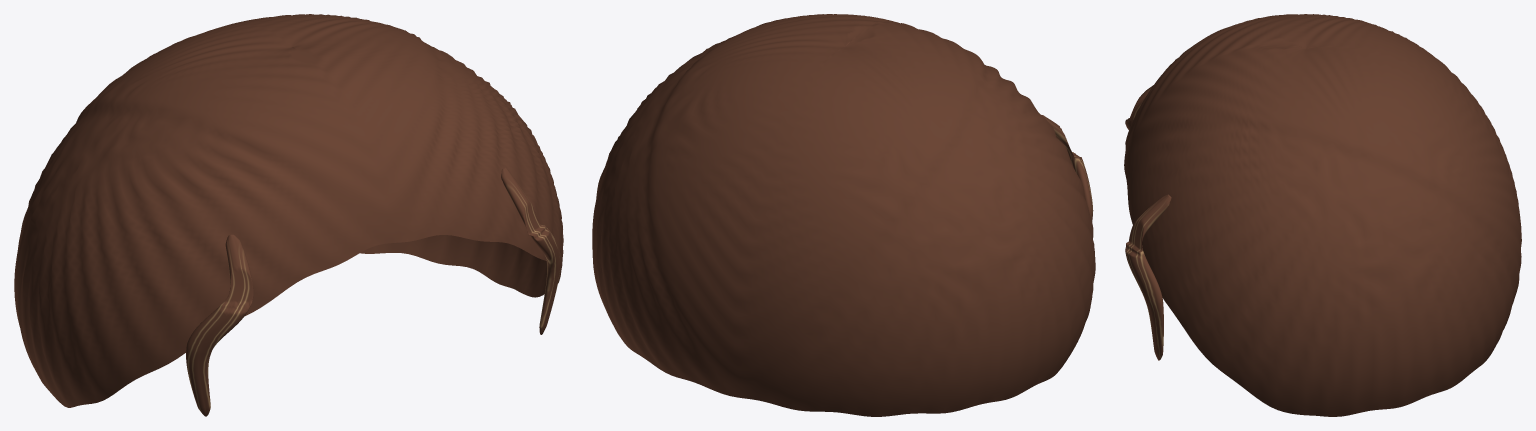
File: Highlights-121a504bc814252-hair.glb
3 renders of one model, left to right at view 1: azimuth 30°, elevation 25°; view 2: azimuth 150°, elevation 25°; view 3: azimuth 270°, elevation 25°, orthographic. The views are drawn at different scales.
Visible parts, largest first — view 1: 226 hair / Hair / chestnut226.002; view 2: 226 hair / Hair / chestnut226.002; view 3: 226 hair / Hair / chestnut226.002.
Boxes of the visible parts, x1,y1,x2,y2 form: 226 hair / Hair / chestnut226.002: (14,14,563,416); 226 hair / Hair / chestnut226.002: (592,14,1095,416); 226 hair / Hair / chestnut226.002: (1124,14,1521,416).
Bounding box in the file's own units: 0.9988 × 0.5983 × 0.7845.
Materials: 1 (1 with a texture image).
